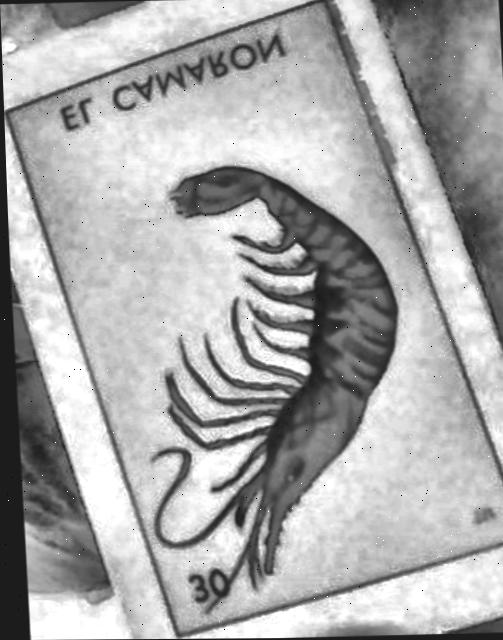El Camaron: (3, 2, 503, 638)
